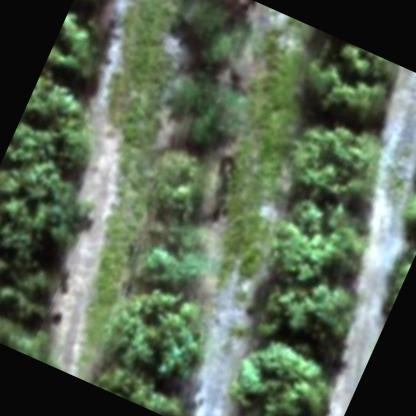Canopy-Citrus: (89, 271, 223, 393), (0, 145, 105, 279), (260, 188, 380, 298), (280, 104, 395, 213), (289, 31, 404, 133), (145, 55, 252, 162), (222, 325, 349, 415), (254, 262, 366, 362), (7, 72, 102, 178), (132, 136, 232, 236), (86, 343, 204, 415), (135, 226, 213, 296), (45, 6, 113, 86)
